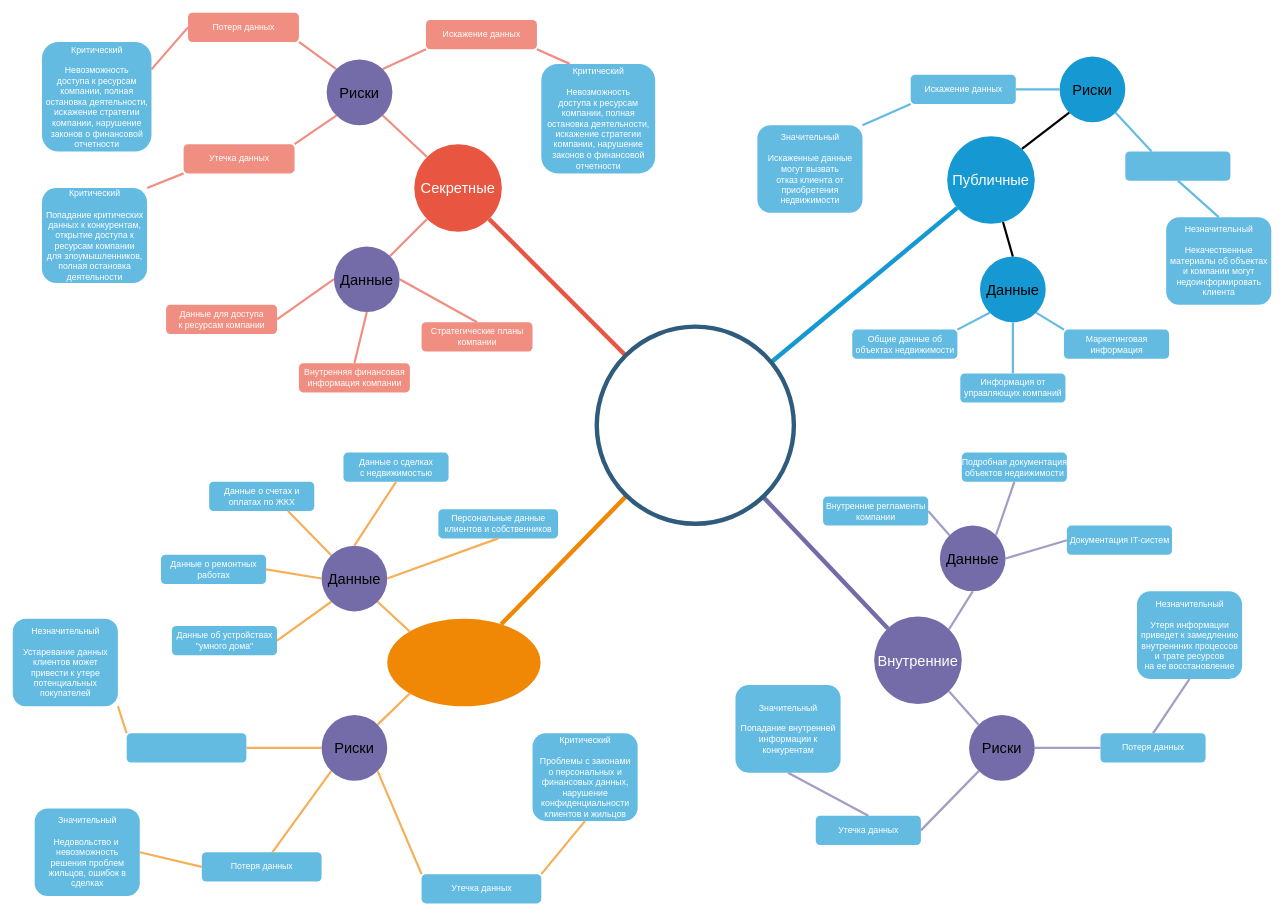
Some shapes in this 1283 by 915 pixel diagram are drawn without their labels. The shapes that lost their labels are listed below. From the top down, each one's box as (x1, y1, x2, y2) in pixels, then its label:
(1125, 151, 1230, 180): Некачественные данные
(594, 324, 796, 526): Безопасность данных
(387, 618, 540, 706): Конфиденциальные
(126, 733, 246, 762): Обесценивание данных
